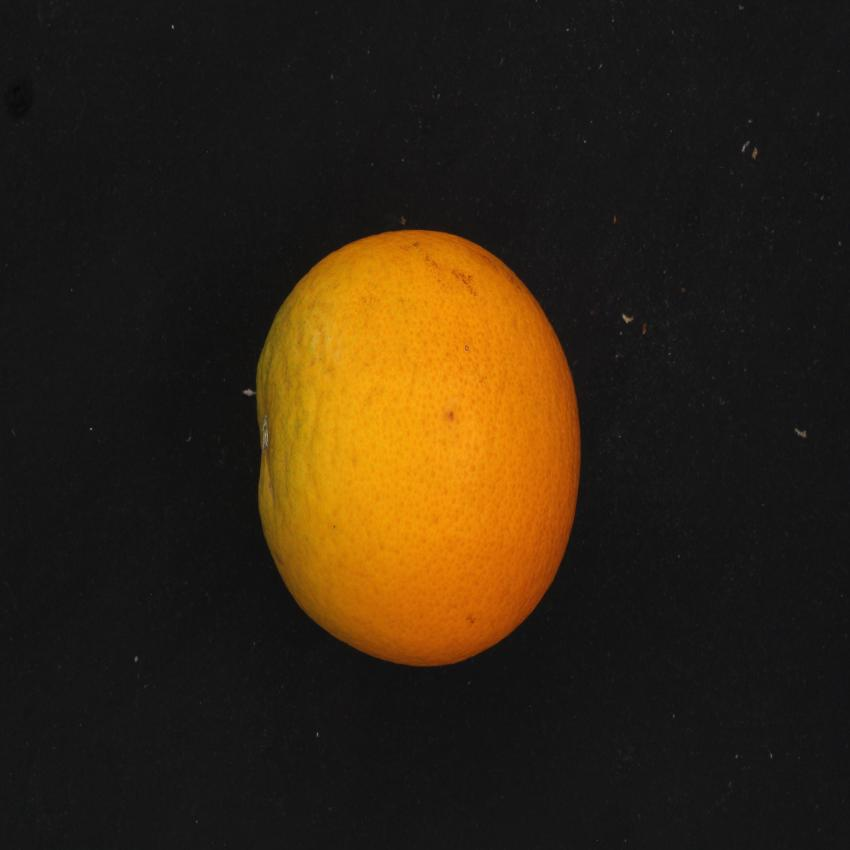Buen estado: (239, 215, 605, 685)
